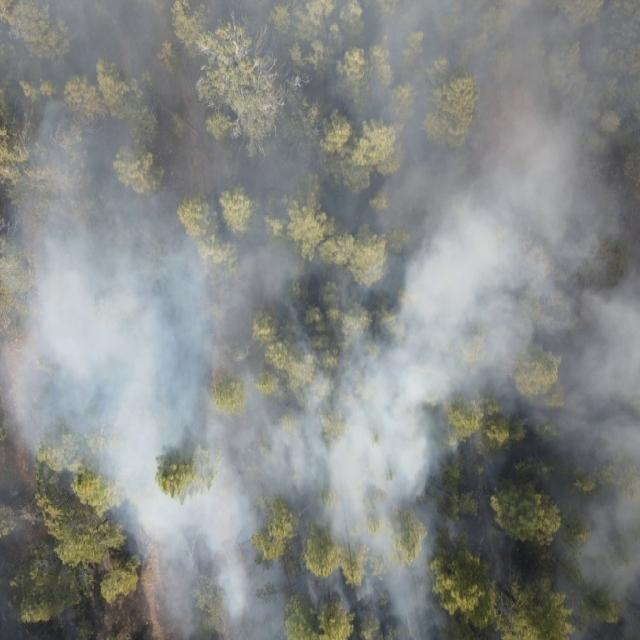smoke: (0, 0, 640, 502), (114, 504, 640, 640), (0, 502, 67, 640)
